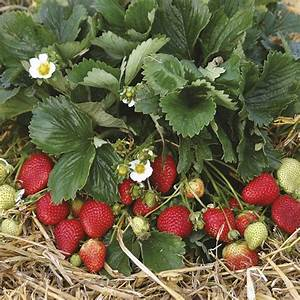Fresa: (12, 150, 57, 200), (196, 201, 240, 247), (77, 194, 117, 240), (144, 147, 179, 196), (240, 169, 282, 209), (76, 234, 114, 278), (33, 188, 74, 228), (52, 216, 88, 261), (154, 202, 196, 240), (269, 190, 300, 237)
